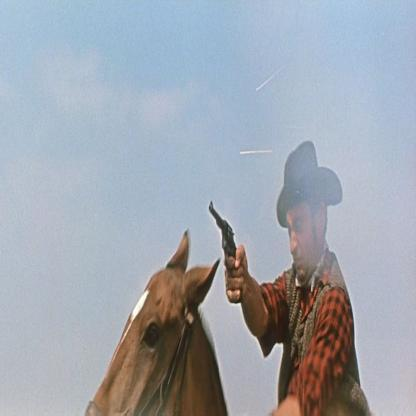gun: (197, 185, 242, 297)
